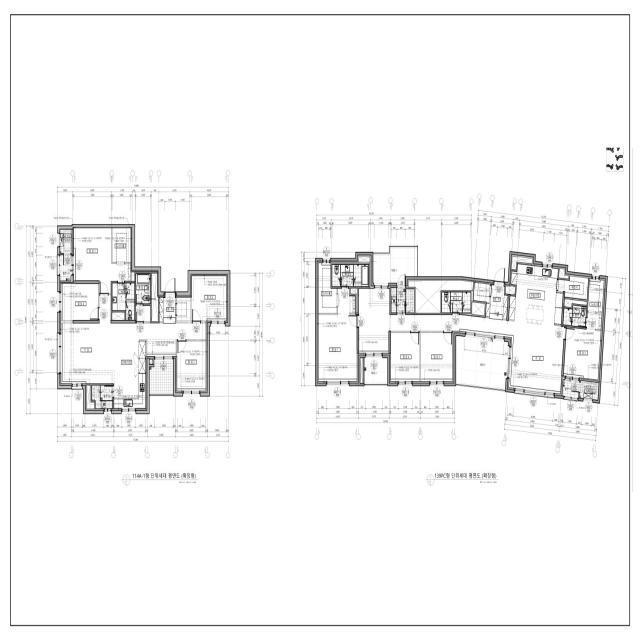space_balconi: (456, 336, 508, 389), (373, 248, 417, 283), (149, 361, 173, 393), (364, 358, 387, 383), (391, 288, 414, 313), (92, 386, 113, 408), (60, 255, 72, 281), (562, 380, 579, 398)
space_bedroom: (74, 228, 131, 293), (319, 289, 357, 381), (564, 327, 601, 380), (192, 275, 227, 321), (421, 333, 453, 381), (177, 341, 207, 391), (391, 333, 420, 381), (61, 284, 98, 320)
space_dressroom: (319, 263, 337, 313), (587, 279, 604, 329), (112, 228, 132, 262)
space_front: (486, 285, 508, 320), (159, 297, 176, 323)
space_kitchen: (509, 264, 563, 326), (114, 341, 146, 408)
space_living_room: (359, 289, 564, 394), (61, 295, 207, 384)
space_other: (409, 281, 473, 313), (558, 276, 588, 300), (147, 340, 176, 356), (177, 298, 191, 321), (474, 283, 490, 302), (152, 273, 158, 321), (512, 256, 532, 270), (136, 306, 150, 321), (86, 385, 94, 410), (472, 302, 485, 316), (351, 288, 358, 313), (564, 300, 587, 307), (559, 269, 569, 279), (506, 286, 515, 295), (360, 358, 363, 384), (359, 257, 370, 263), (132, 271, 135, 281), (150, 360, 152, 364)
space_outdoor_room: (580, 381, 599, 400), (60, 230, 72, 253)
space_toilet: (112, 283, 134, 320), (332, 265, 368, 286), (442, 292, 471, 313), (563, 305, 587, 327), (136, 274, 150, 304)
